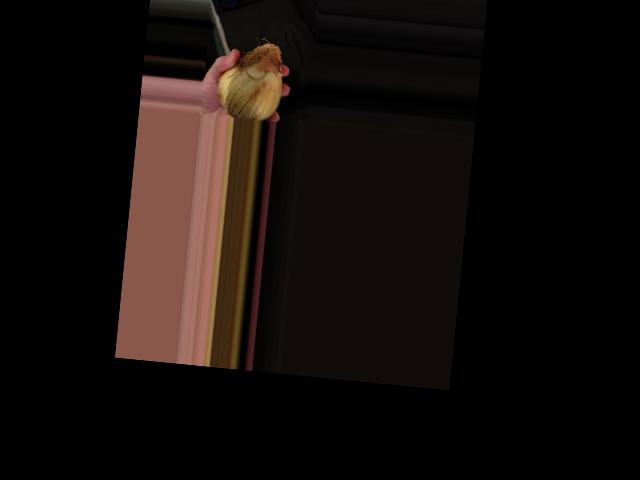onion: (216, 37, 286, 118)
